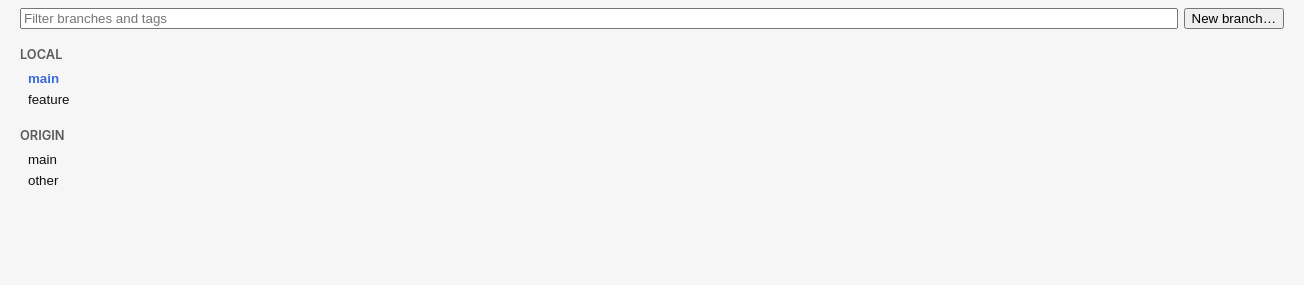
Test case: BranchesPanel activation › should show a checkout failure as an alert with its message
The width and height of the screenshot is (1304, 285).
Check: the heading "Local" is shown, box [20, 47, 62, 62]
Double-click the button titled "refs/heads/feature": (49, 100) [12, 89, 1292, 110]
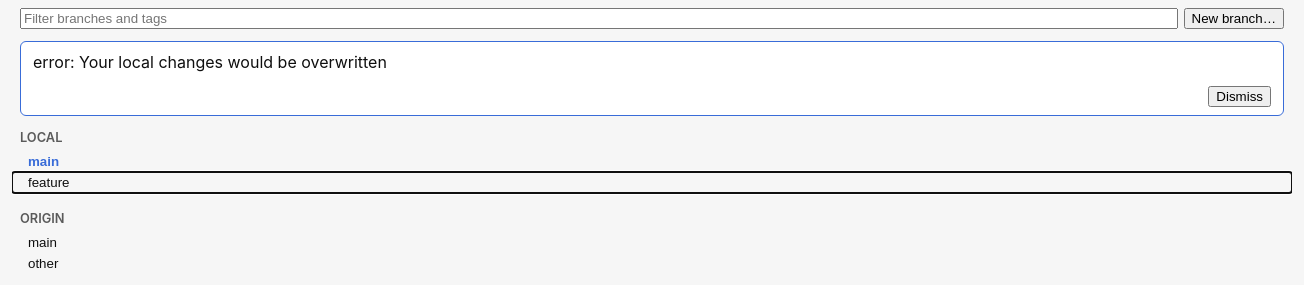
Check: the message shows "error: Your local changes would be overwritten", box [33, 52, 387, 72]
